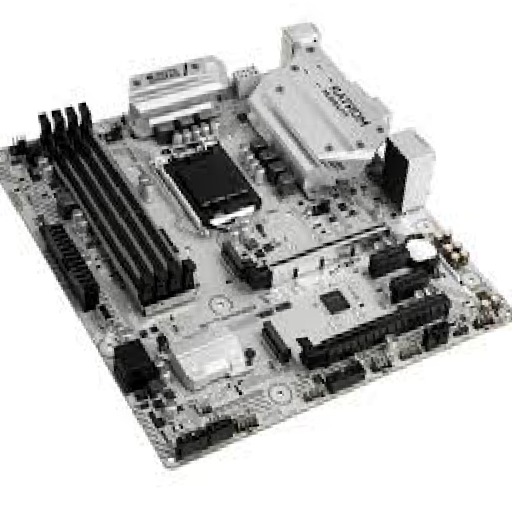CPU: (154, 138, 262, 228)
GPU: (301, 292, 447, 370), (249, 222, 392, 288)
MOTHERBOARD: (1, 63, 512, 465)
RAM: (39, 100, 198, 303)
SSD: (260, 320, 292, 363), (219, 241, 246, 275)
